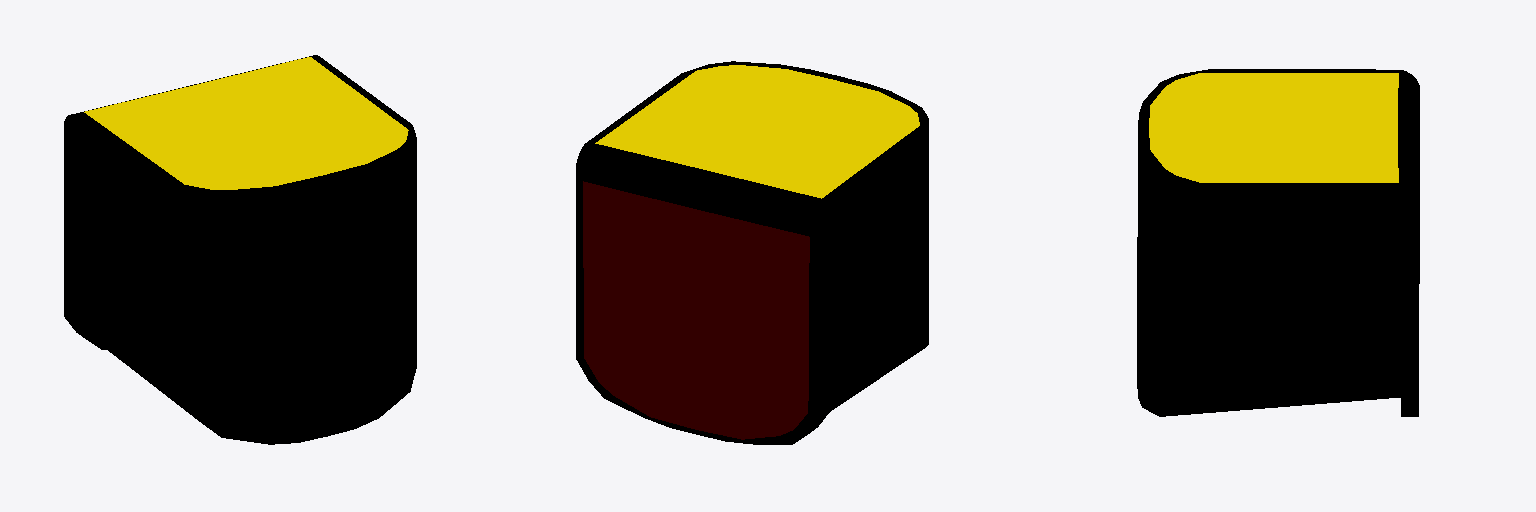
Rendered from edgeYR.obj.
3 renders of one model, left to right at view 1: azimuth 30°, elevation 25°; view 2: azimuth 150°, elevation 25°; view 3: azimuth 270°, elevation 25°, orthographic.
Visible parts, largest first — view 1: BasicEdge_Plane.006, EdgeSide1_Plane.008; view 2: EdgeSide2_Plane.009, BasicEdge_Plane.006, EdgeSide1_Plane.008; view 3: BasicEdge_Plane.006, EdgeSide1_Plane.008.
Boxes of the visible parts, x1,y1,x2,y2 form: BasicEdge_Plane.006: [64, 55, 416, 444]; EdgeSide1_Plane.008: [84, 57, 408, 189]; EdgeSide2_Plane.009: [583, 181, 809, 439]; BasicEdge_Plane.006: [576, 61, 928, 444]; EdgeSide1_Plane.008: [595, 65, 919, 198]; BasicEdge_Plane.006: [1137, 69, 1419, 416]; EdgeSide1_Plane.008: [1149, 73, 1398, 182].
Bounding box in the file's own units: 0.18 × 0.1802 × 0.182.